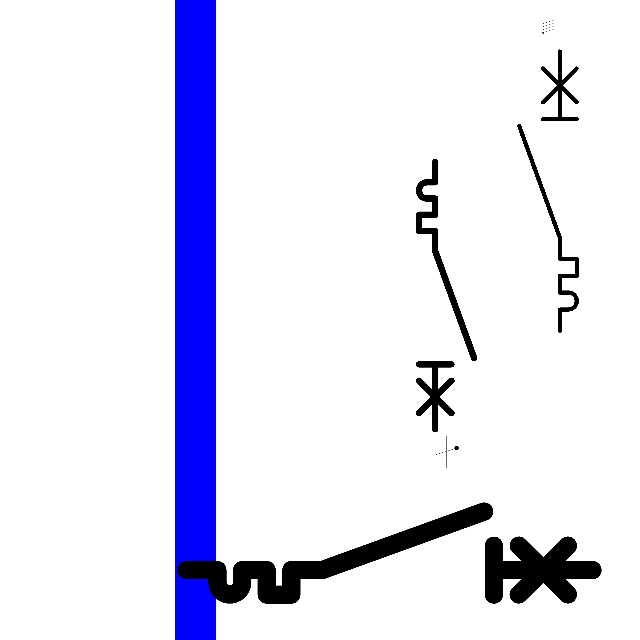interruptor_termomagnetico: (176, 501, 603, 605), (512, 44, 584, 338), (412, 155, 480, 436)
